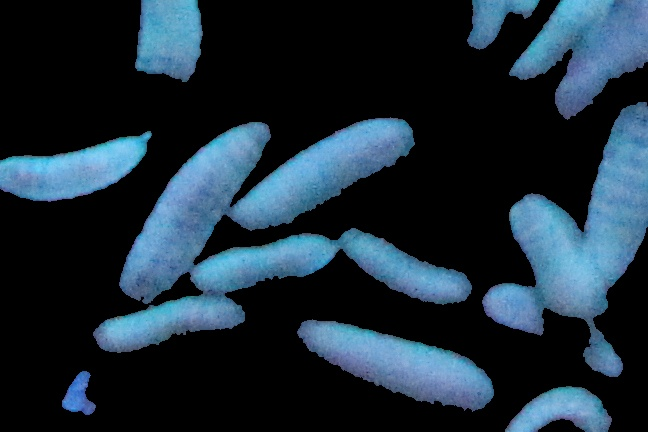larvae: (119, 120, 261, 302), (238, 121, 418, 233), (294, 318, 492, 409), (488, 282, 619, 375), (509, 195, 606, 314), (585, 105, 648, 285), (343, 229, 480, 310), (1, 134, 147, 204), (187, 231, 339, 296), (94, 296, 243, 353), (511, 1, 610, 81), (554, 36, 648, 120), (132, 1, 206, 104), (505, 385, 615, 432)
